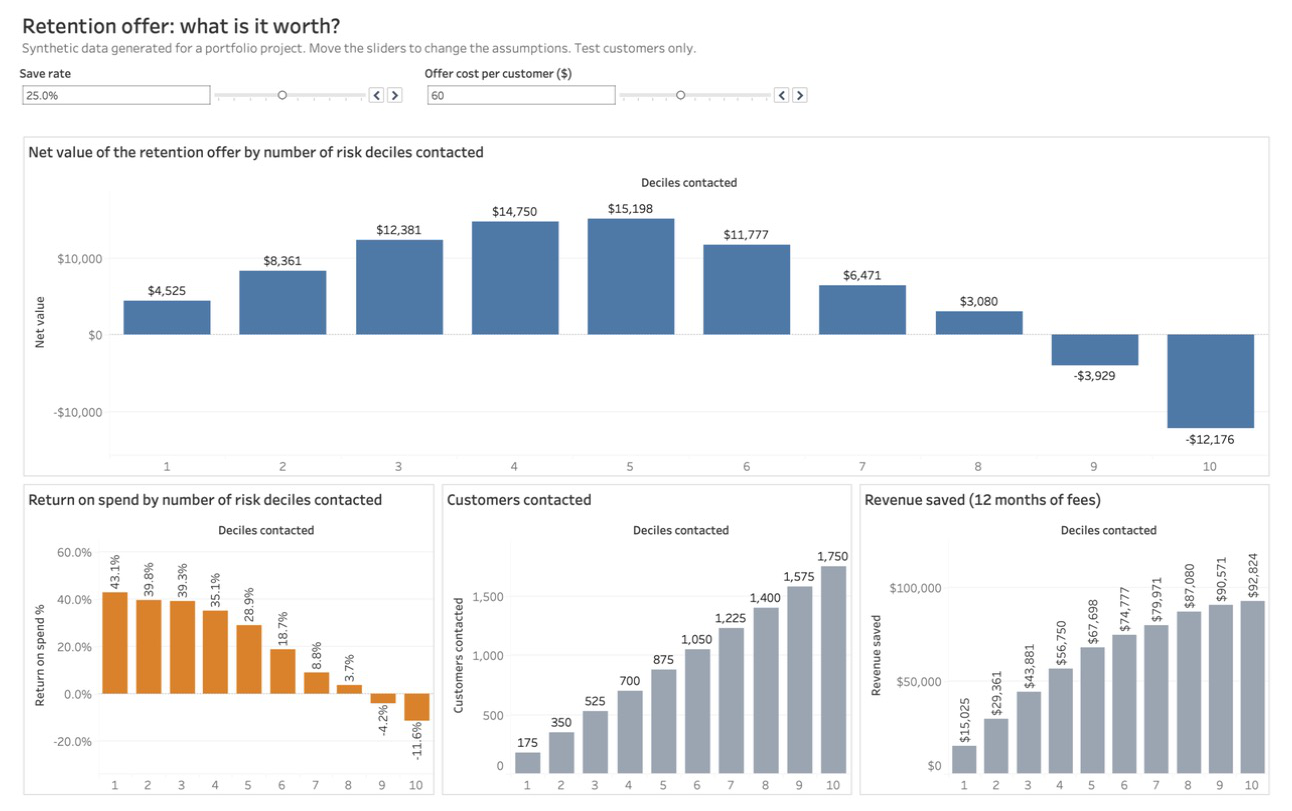

The page's visual inventory and layout, read from the dashboard file:
{"tool":"tableau","page":{"name":"Retention offer","canvas":[1300,820],"ordinal":2},"visuals":[{"type":"title","box":[0,0,1300,56]},{"type":"parameter","param":"[Parameters].[Parameter 1]","box":[0,60,400,66]},{"type":"parameter","param":"[Parameters].[Parameter 2]","box":[420,60,400,66]},{"type":"worksheet","title":"Net value by campaign depth","mark":"Bar","rows":["c_net"],"cols":["deciles_contacted"],"box":[0,130,1300,360]},{"type":"worksheet","title":"Return on spend by depth","mark":"Bar","rows":["c_roi"],"cols":["deciles_contacted"],"box":[0,490,434,330]},{"type":"worksheet","title":"Customers contacted by depth","mark":"Bar","rows":["c_contacted"],"cols":["deciles_contacted"],"box":[434,490,433,330]},{"type":"worksheet","title":"Revenue saved by depth","mark":"Bar","rows":["c_saved"],"cols":["deciles_contacted"],"box":[867,490,433,330]}]}

Visuals, with their boxes in screenshot pixels (x1, y1, x2, y2), scaled from the page's 1300x820 canvas onto the 1292x811 screenshot:
title: Rect(0, 0, 1291, 55)
parameter: Rect(0, 59, 398, 125)
parameter: Rect(417, 59, 815, 125)
"Net value by campaign depth" worksheet (Bar marks): Rect(0, 129, 1291, 485)
"Return on spend by depth" worksheet (Bar marks): Rect(0, 485, 431, 810)
"Customers contacted by depth" worksheet (Bar marks): Rect(431, 485, 862, 810)
"Revenue saved by depth" worksheet (Bar marks): Rect(862, 485, 1291, 810)
